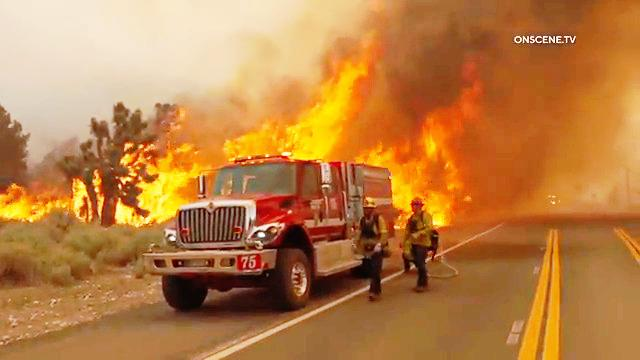fire: (232, 29, 376, 152), (380, 66, 482, 196), (68, 119, 191, 224), (0, 173, 67, 226)
smoke: (496, 61, 620, 145)
